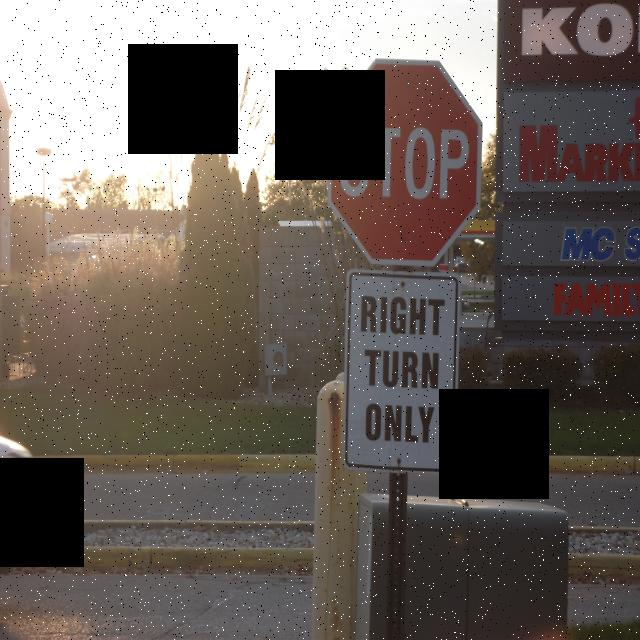regulatory: (346, 271, 456, 468)
stop: (312, 46, 486, 268)
